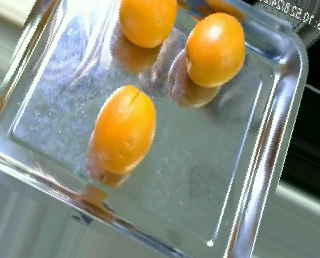Orange: (90, 84, 155, 173), (185, 11, 246, 87), (118, 0, 177, 47)
